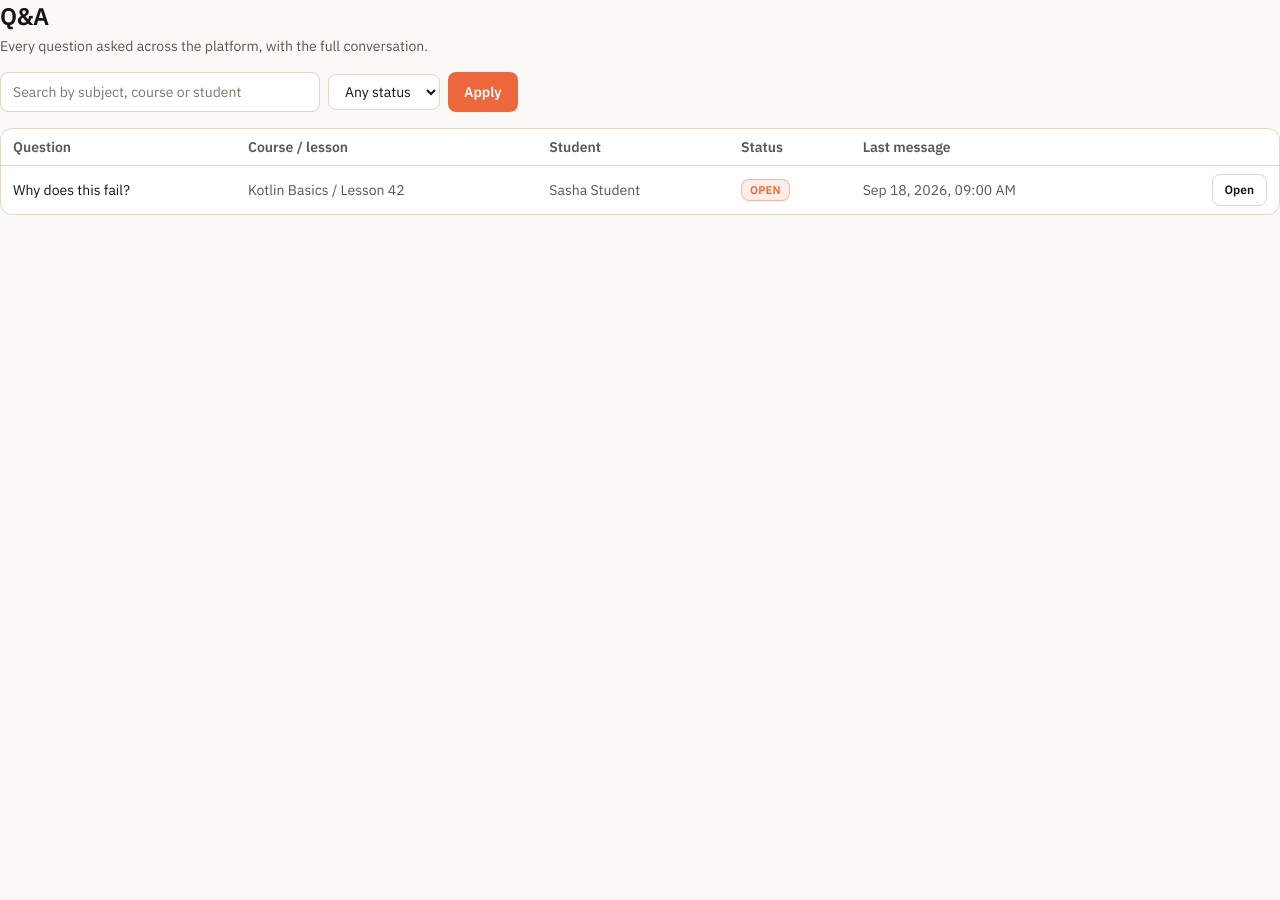
Test: AdminQuestionsView › soft-deletes a message after confirmation
Click the button "Open": [1239, 190] box [1212, 174, 1267, 206]
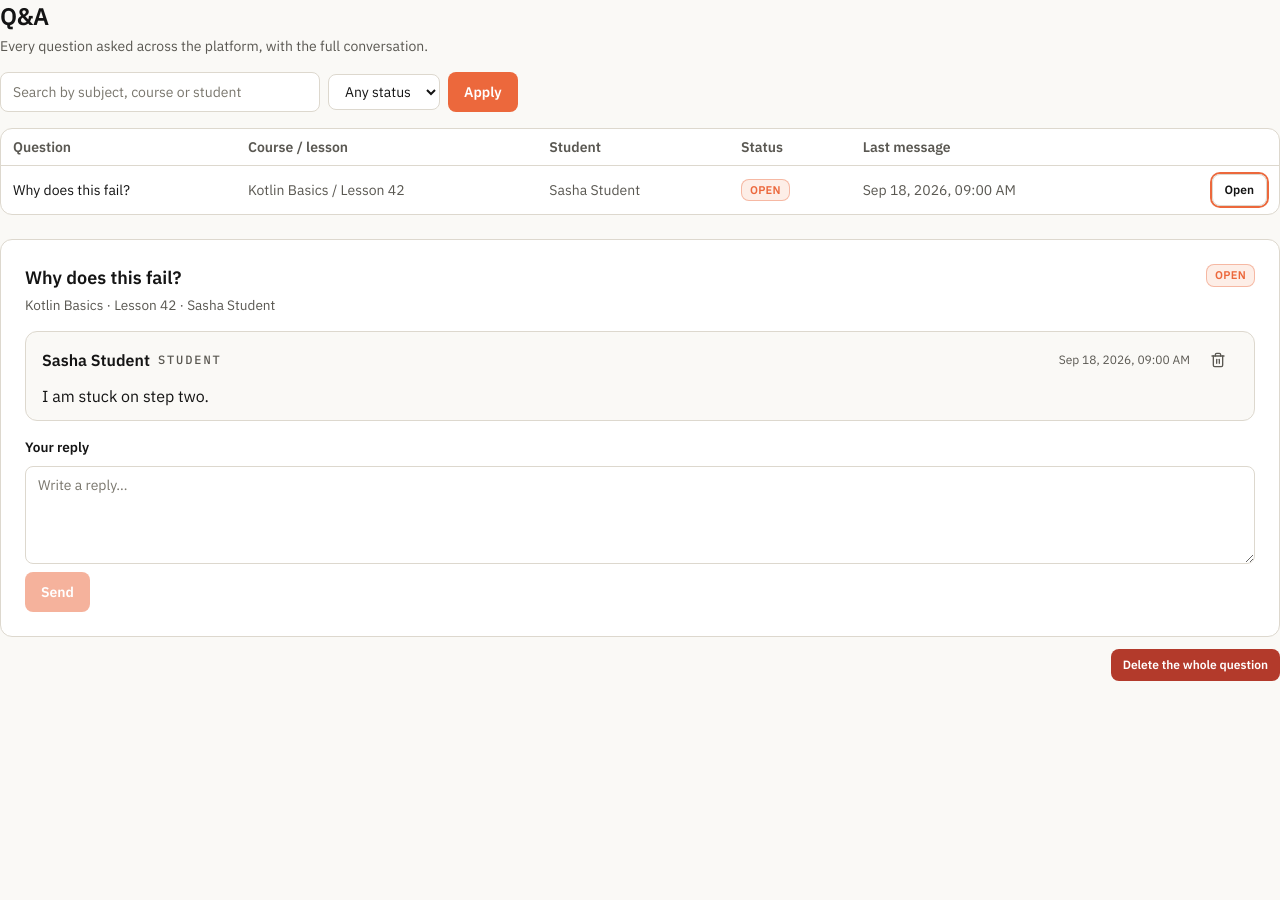
Click the button named "Delete message": [1218, 360] box [1198, 344, 1238, 376]
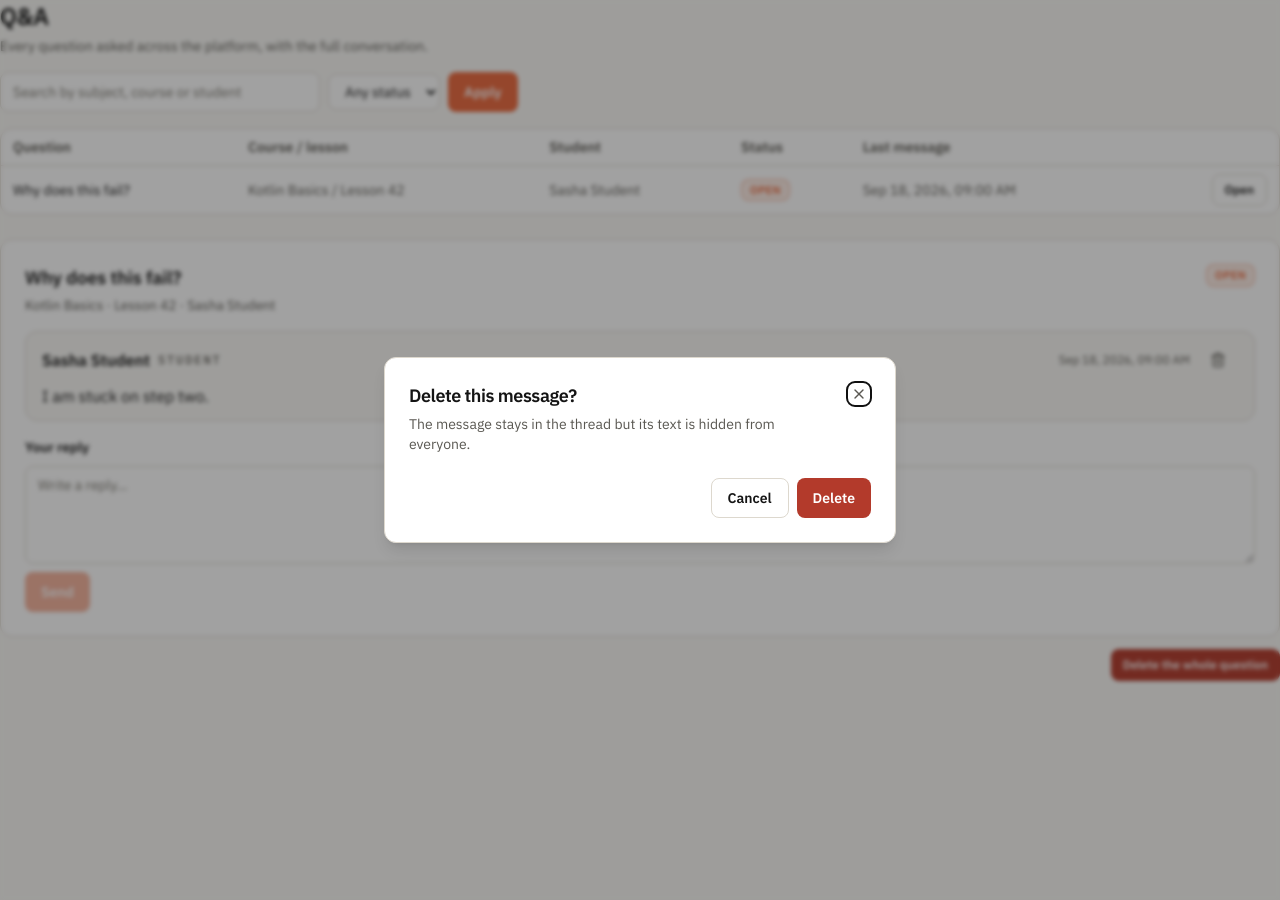
Click the button "Delete": [834, 498] box [797, 478, 871, 518]
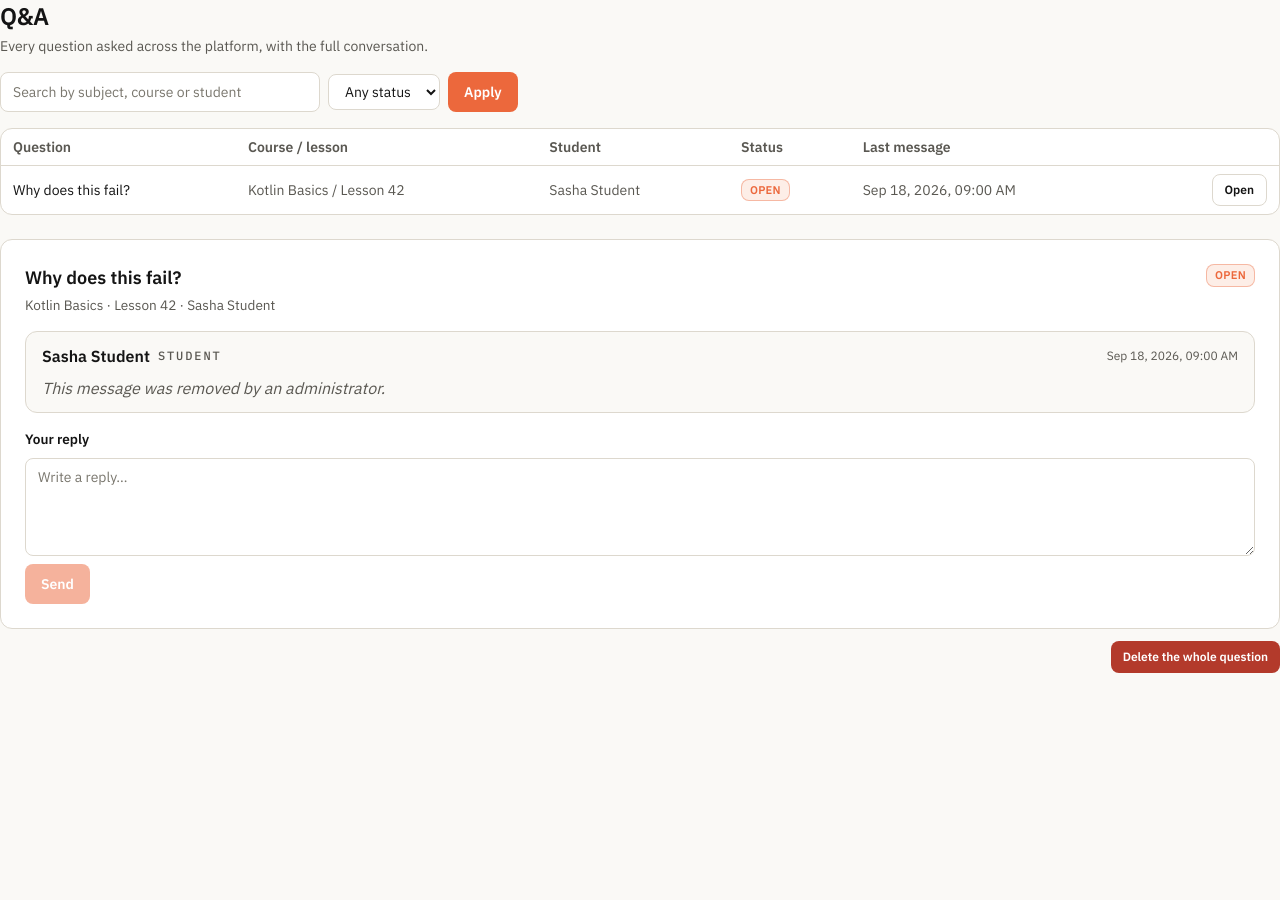
Expected: the text "This message was removed by an administrator." is shown, [42, 378, 385, 398]
